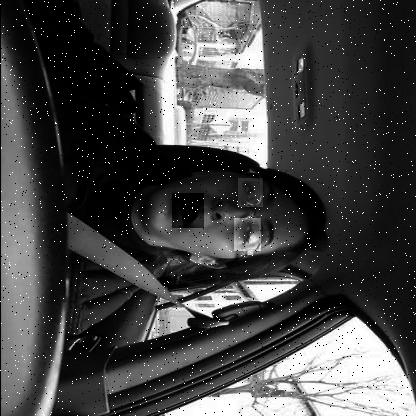seatbelt: (67, 152, 335, 340)
